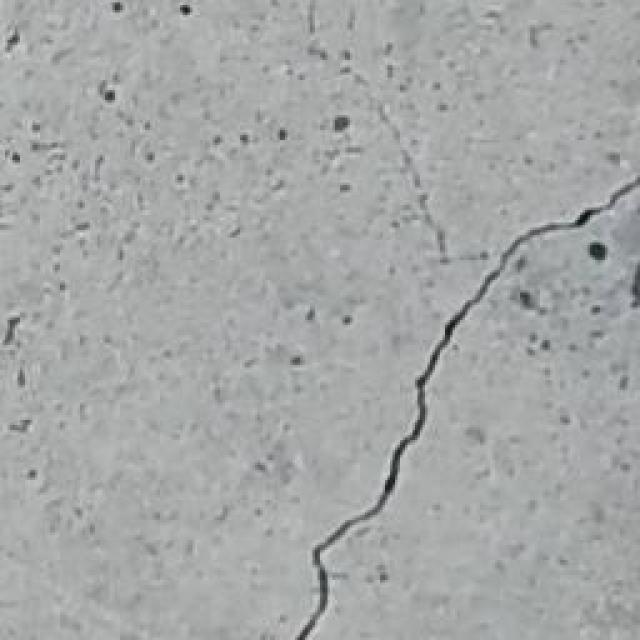concrete-crack: (294, 174, 638, 640), (443, 483, 447, 484)
